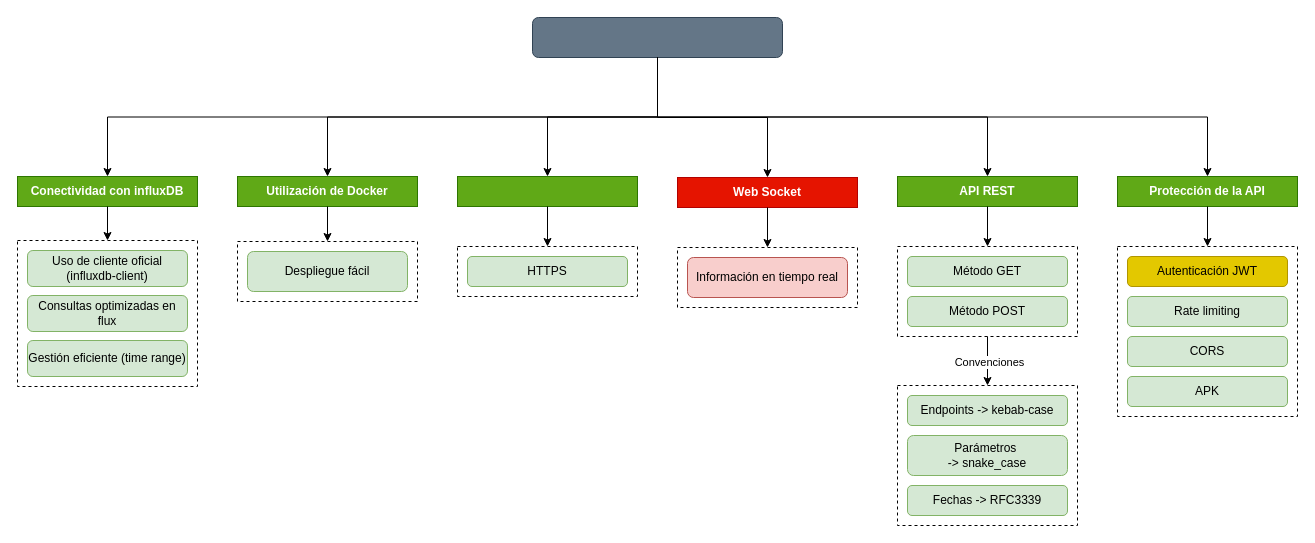
This 1315x543 diagram has some shape labels left out. Each missing label, with the centre of its shape:
Seguridad de conexiones: the point at 547,191
Sensores "Destellos": the point at 657,37
